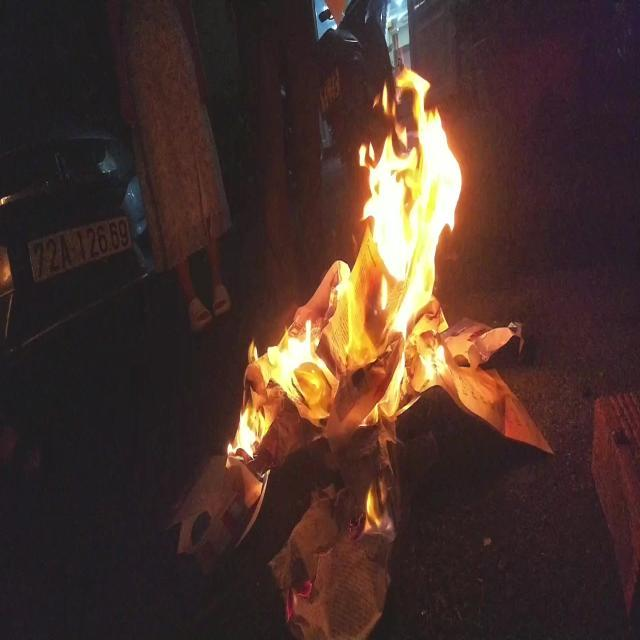Fire: (227, 68, 463, 465), (362, 479, 395, 544)
